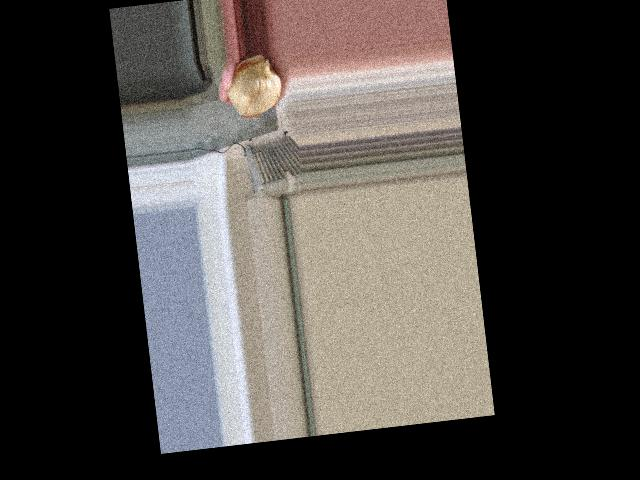onion: (225, 56, 288, 122)
